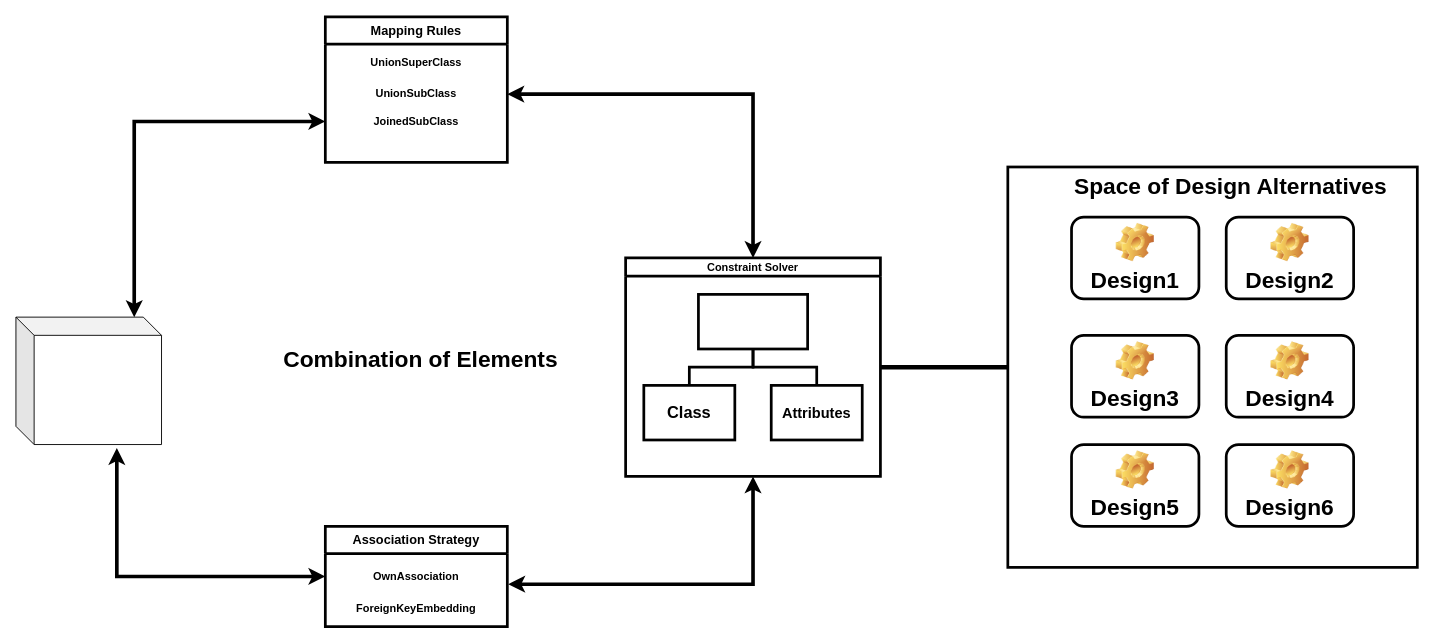
This 1434x643 diagram has some shape labels left out. Each missing label, with the centre of its shape:
"Object Model" goes at (x=88, y=380).
"OM" goes at (x=753, y=321).
